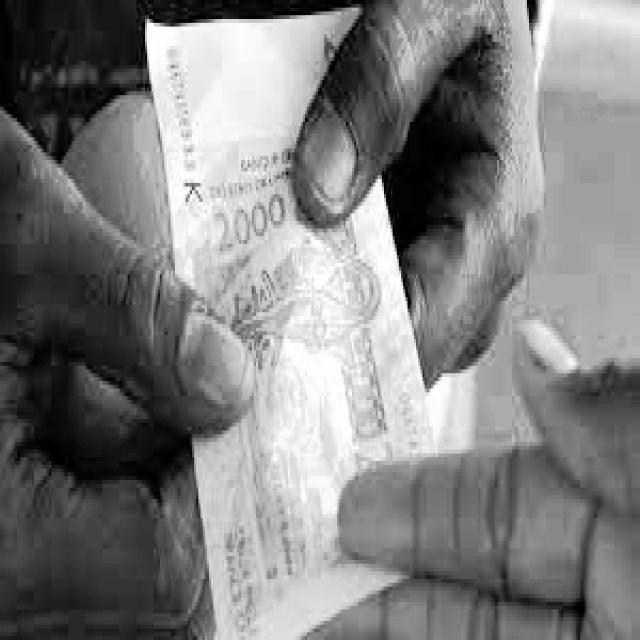nient teemeer: (150, 11, 434, 636)
